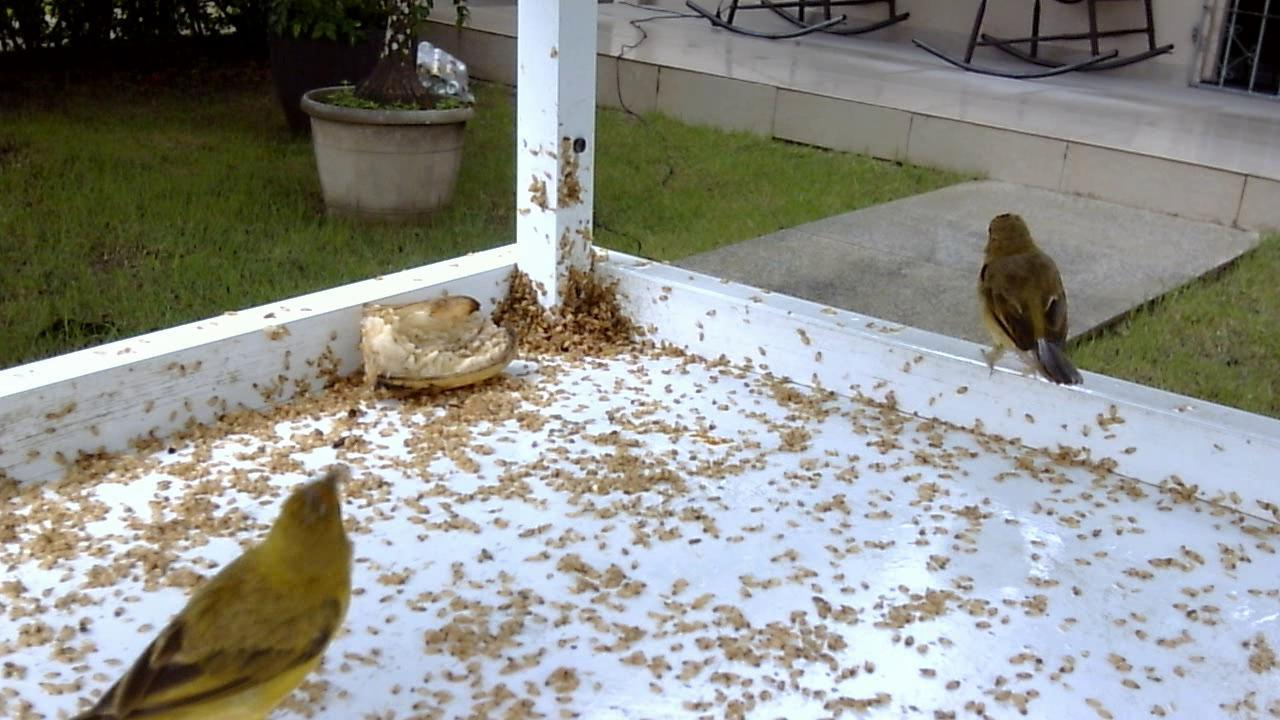canario_do_amazonas: (63, 458, 368, 720), (972, 211, 1084, 390)
